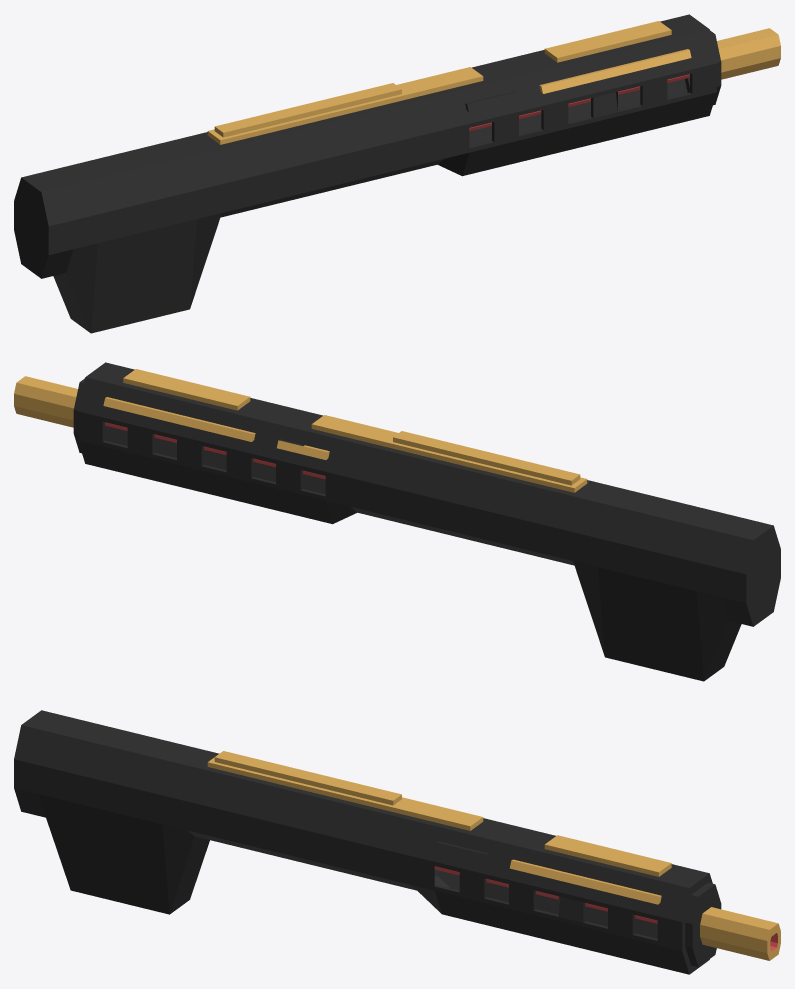
File: Weapon.gltf
3 renders of one model, top to bottom at view 1: azimuth 30°, elevation 25°; view 2: azimuth 150°, elevation 25°; view 3: azimuth 330°, elevation 25°, orthographic.
Visible parts, largest first — view 1: Plane; view 2: Plane; view 3: Plane.
Boxes of the visible parts, box(x1,y1,x2,y2) form: Plane: box(14, 14, 780, 333); Plane: box(14, 362, 780, 681); Plane: box(14, 710, 780, 974).
Bounding box in the file's own units: 2.11 × 0.4423 × 0.171.
